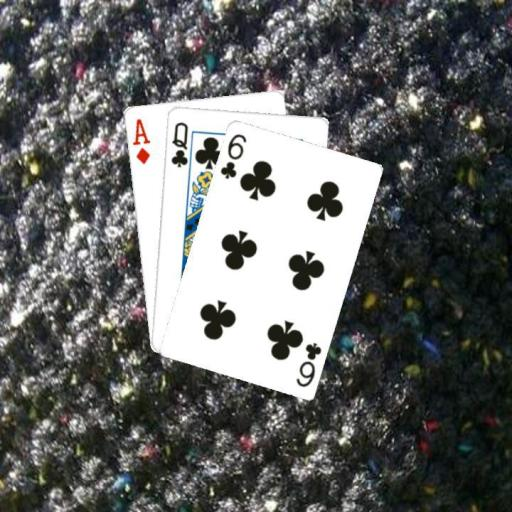6C: (217, 130, 248, 180), (292, 339, 323, 389)
AD: (130, 115, 152, 165)
QC: (167, 119, 189, 169)
